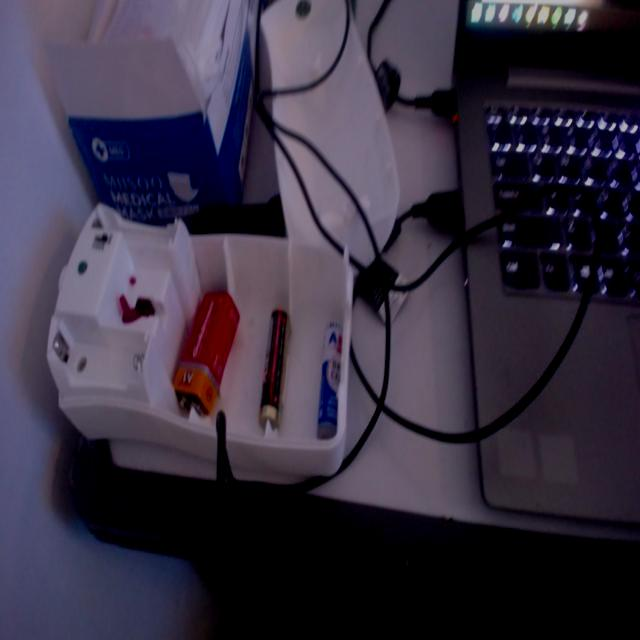9V: (167, 270, 243, 436)
AAA: (254, 292, 296, 452), (315, 312, 348, 472)
